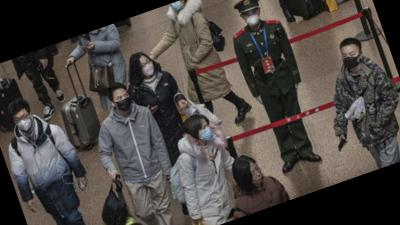with_mask: (340, 46, 364, 72), (11, 110, 37, 134), (192, 121, 216, 145), (113, 90, 136, 114), (242, 8, 264, 31), (137, 58, 158, 80)
without_mask: (246, 164, 267, 187)
